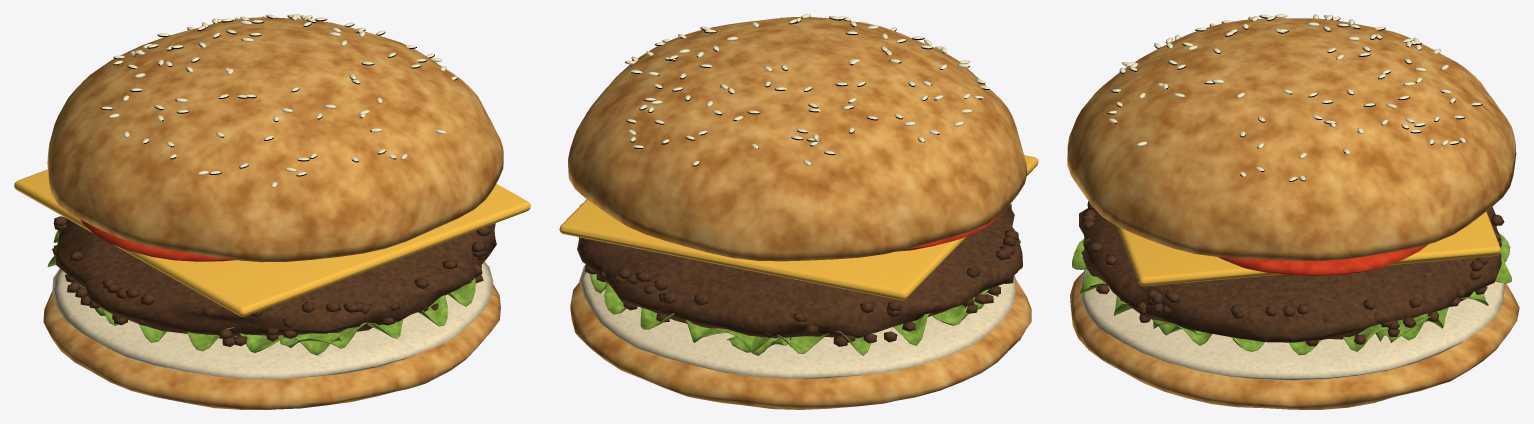
Rendered from burger.glb.
The picture shows the model from 3 angles, left to right: view 1: azimuth 30°, elevation 25°; view 2: azimuth 150°, elevation 25°; view 3: azimuth 270°, elevation 25°; orthographic projection.
Parts seen in each view (by area): view 1: burger; view 2: burger; view 3: burger.
Part boxes in pixels (<box>): burger: <box>14,14,530,409</box>; burger: <box>559,14,1038,409</box>; burger: <box>1067,14,1519,409</box>.
Size of the model in its own units: 0.0971 by 0.0669 by 0.095.
Materials: 1 (1 with a texture image).
